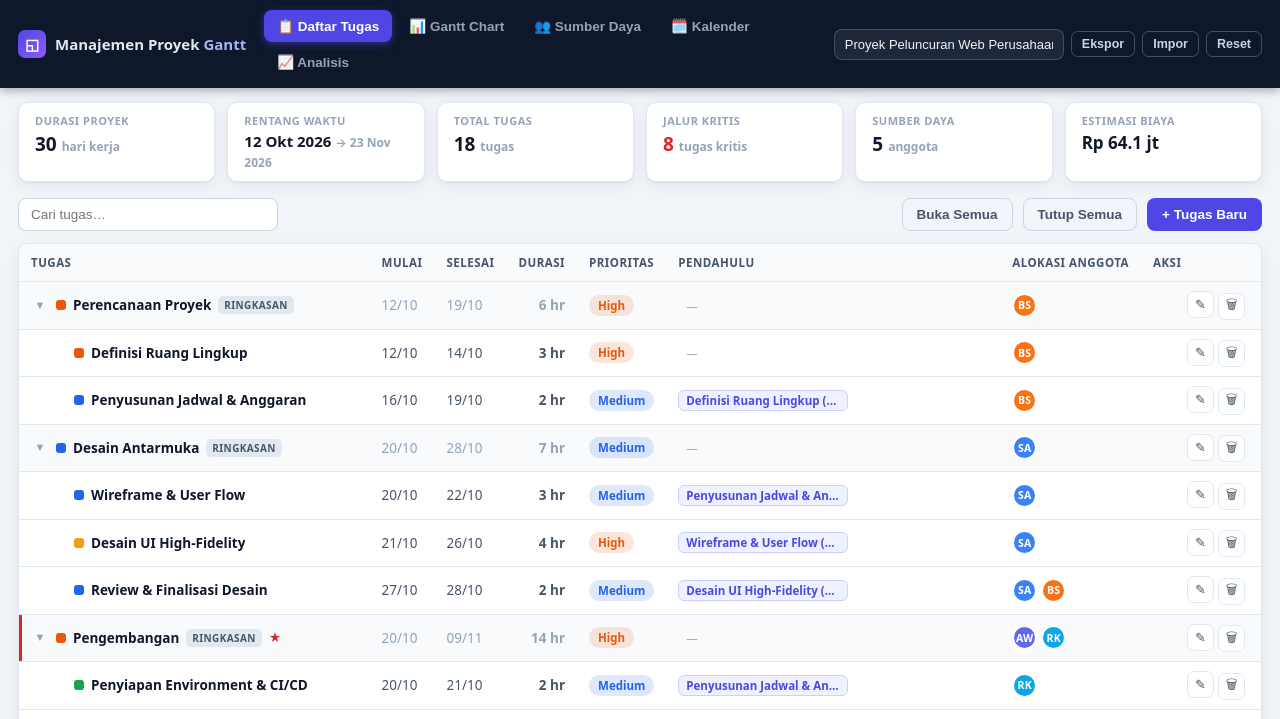
Scenario: App (smoke) › tab Analisis menampilkan tabel CPM jalur kritis dan diagram PERT
The image size is (1280, 719).
Click the button "📈 Analisis".
click(313, 62)  # box 264,46 -> 362,78
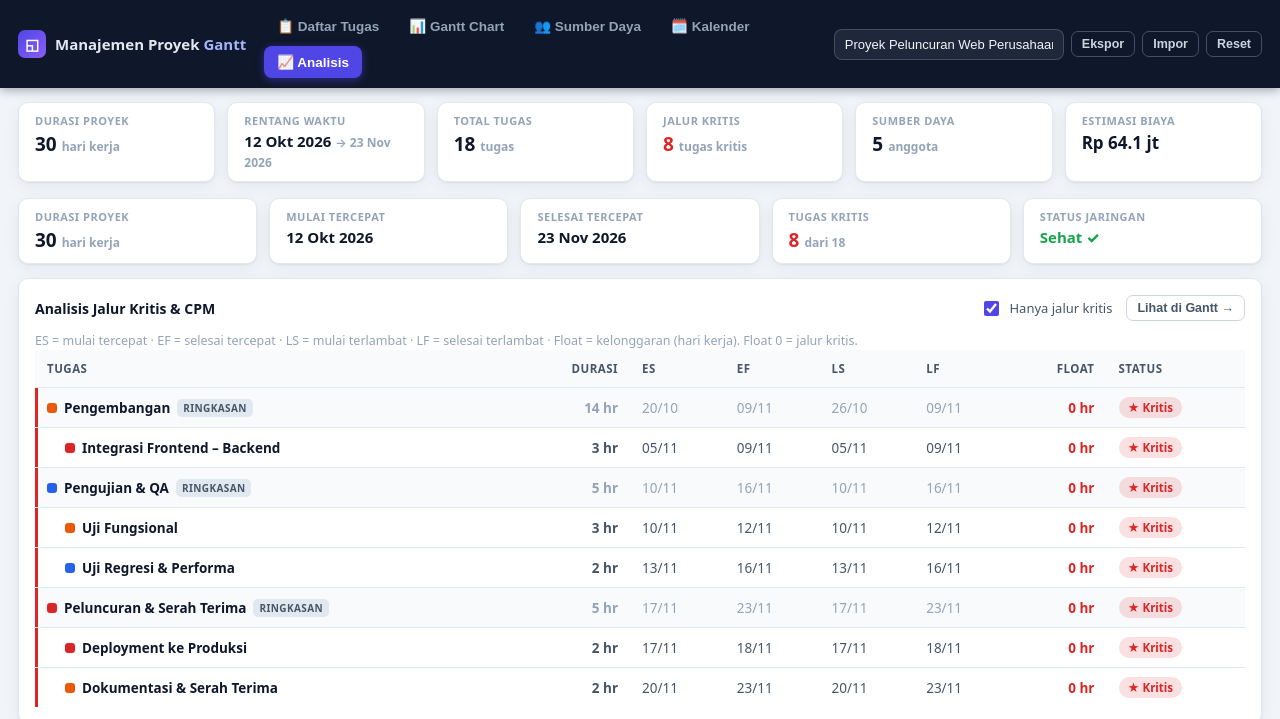
Check: the heading "Analisis Jalur Kritis & CPM" is shown, box 35,298 -> 215,318
Check: the 1st text "★ Kritis" is shown, box 1118,397 -> 1182,418
